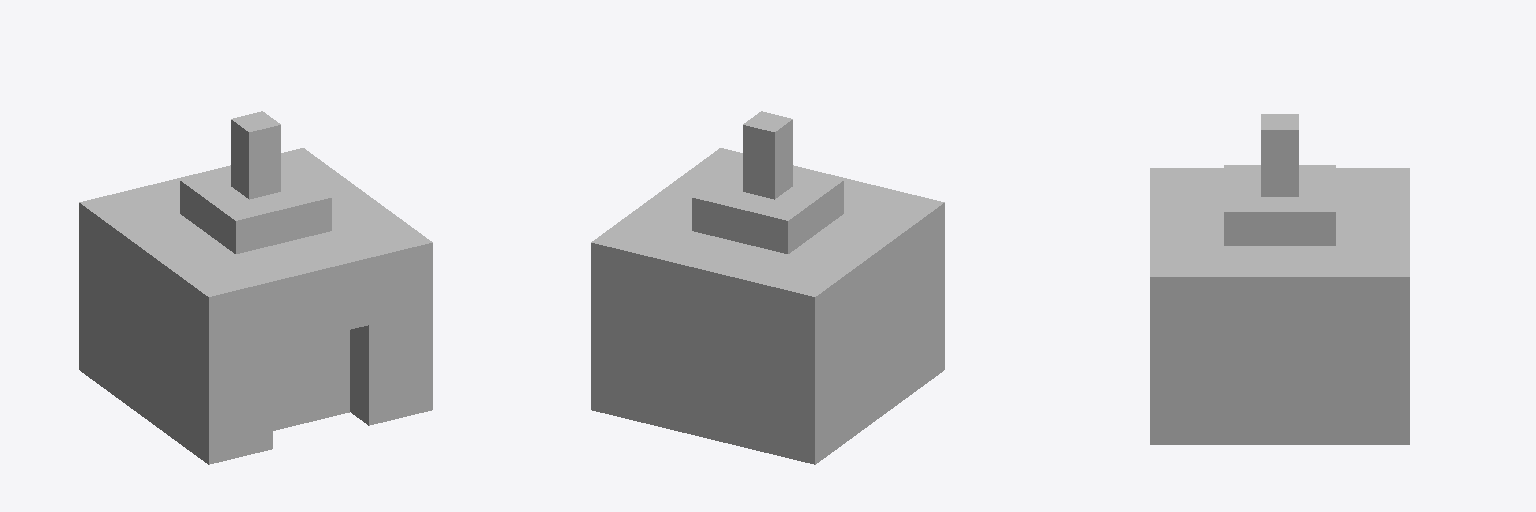
Rendered from factory.obj.
The picture shows the model from 3 angles: view 1: azimuth 30°, elevation 25°; view 2: azimuth 150°, elevation 25°; view 3: azimuth 270°, elevation 25°; orthographic projection.
Visible parts, largest first — view 1: object 1; view 2: object 1; view 3: object 1.
Part boxes in pixels (x1,y1,x2,y2): object 1: (79, 111, 432, 464); object 1: (591, 111, 944, 464); object 1: (1150, 114, 1409, 444).
Bounding box in the file's own units: 0.7 × 0.8 × 0.7.